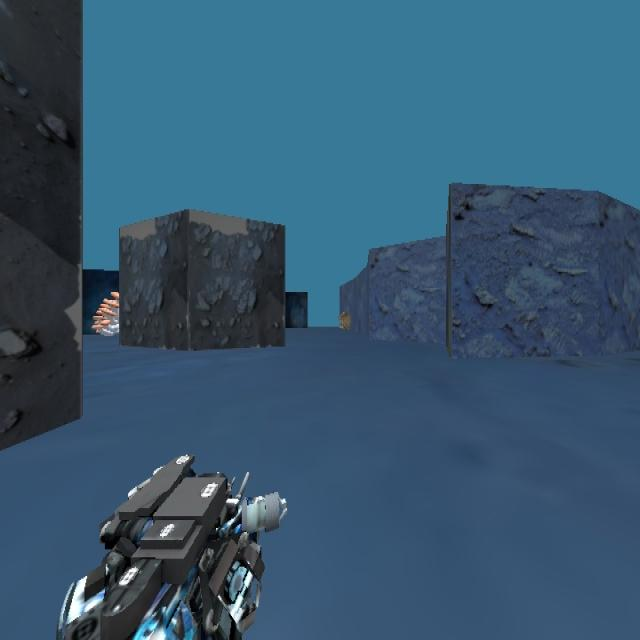Mushroom: (80, 276, 137, 357)
